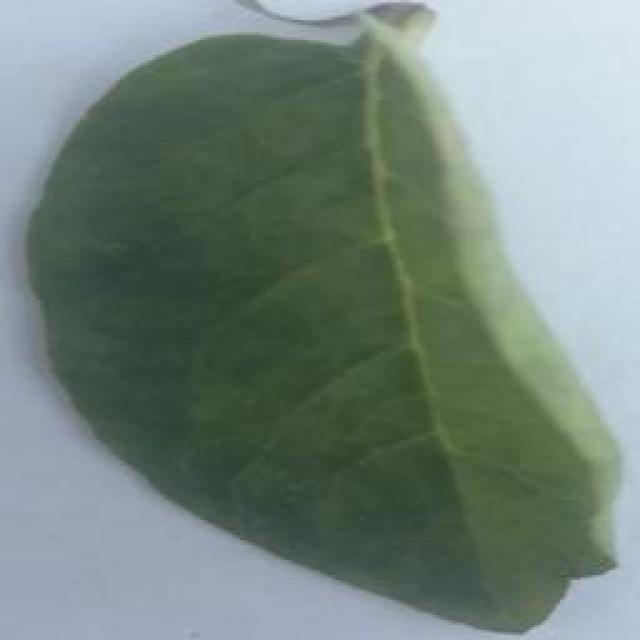Potato_Healthy: (25, 14, 612, 635)
